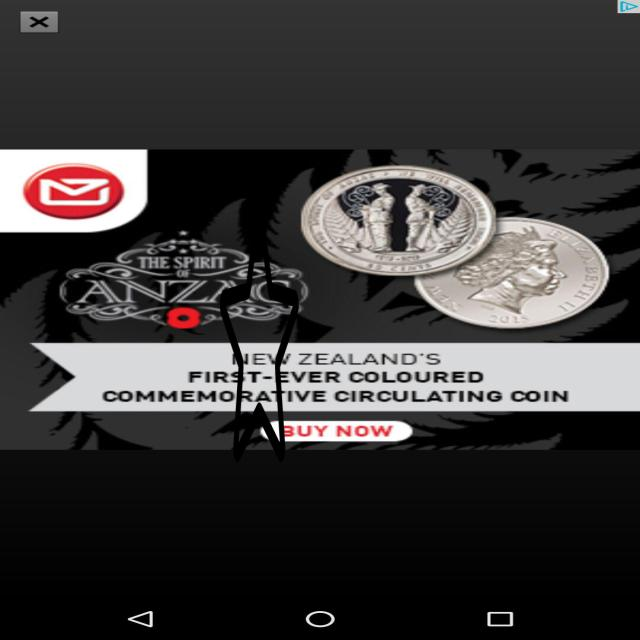forced continuity: (220, 195, 299, 468)
